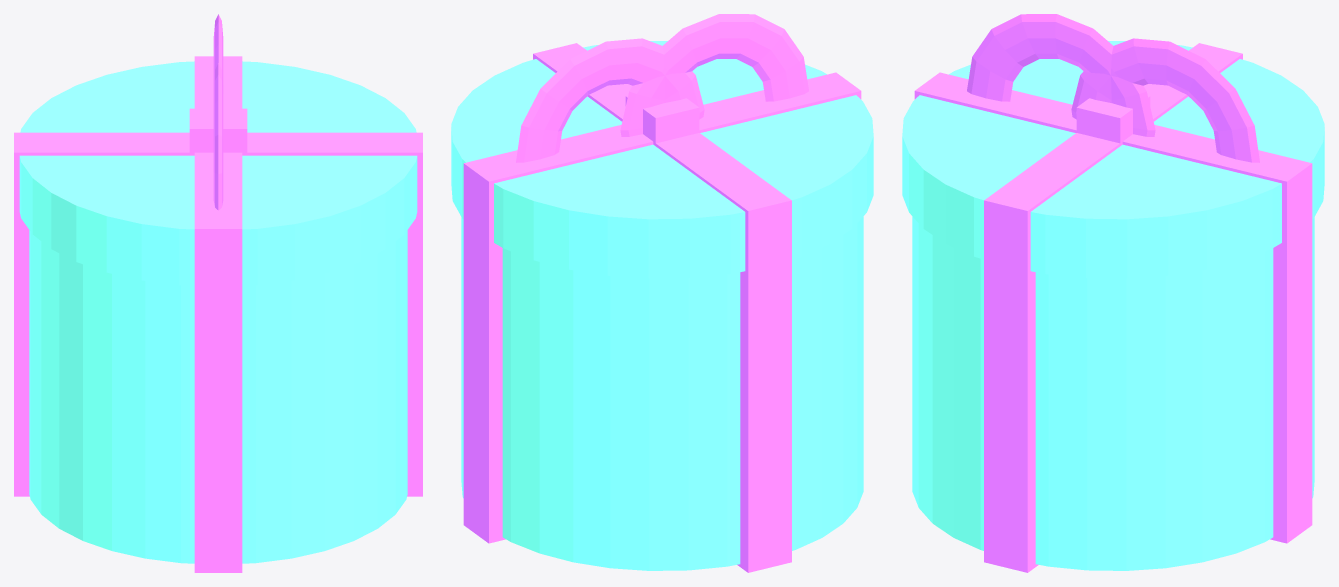
The model's file is Tmpl_Round_Root_203.glb.
3 views of the same model, side by side, from view 1: azimuth 30°, elevation 25°; view 2: azimuth 150°, elevation 25°; view 3: azimuth 270°, elevation 25° (orthographic). The views are drawn at different scales.
Visible parts, largest first — view 1: Tmpl_Round_Base.201, Tmpl_Round_Lid.201, Tmpl_Round_Ribbon_X.201, Tmpl_Round_Ribbon_Y.201, Tmpl_Round_BowKnot.201, Tmpl_Round_BowR.201, Tmpl_Round_BowL.201; view 2: Tmpl_Round_Base.201, Tmpl_Round_Lid.201, Tmpl_Round_Ribbon_Y.201, Tmpl_Round_Ribbon_X.201, Tmpl_Round_BowR.201, Tmpl_Round_BowL.201, Tmpl_Round_BowKnot.201; view 3: Tmpl_Round_Base.201, Tmpl_Round_Lid.201, Tmpl_Round_Ribbon_Y.201, Tmpl_Round_Ribbon_X.201, Tmpl_Round_BowR.201, Tmpl_Round_BowL.201, Tmpl_Round_BowKnot.201.
Part boxes in pixels (bbox=[...]): Tmpl_Round_Base.201: bbox=[29, 230, 407, 563]; Tmpl_Round_Lid.201: bbox=[19, 61, 417, 285]; Tmpl_Round_Ribbon_X.201: bbox=[194, 56, 242, 572]; Tmpl_Round_Ribbon_Y.201: bbox=[14, 132, 422, 496]; Tmpl_Round_BowKnot.201: bbox=[189, 108, 247, 155]; Tmpl_Round_BowR.201: bbox=[213, 63, 223, 210]; Tmpl_Round_BowL.201: bbox=[213, 14, 223, 84]; Tmpl_Round_Base.201: bbox=[461, 216, 863, 570]; Tmpl_Round_Lid.201: bbox=[451, 41, 873, 278]; Tmpl_Round_Ribbon_Y.201: bbox=[533, 43, 791, 572]; Tmpl_Round_Ribbon_X.201: bbox=[463, 72, 861, 543]; Tmpl_Round_BowR.201: bbox=[620, 14, 808, 136]; Tmpl_Round_BowL.201: bbox=[516, 38, 704, 162]; Tmpl_Round_BowKnot.201: bbox=[625, 95, 699, 143]; Tmpl_Round_Base.201: bbox=[912, 216, 1314, 570]; Tmpl_Round_Lid.201: bbox=[902, 41, 1324, 278]; Tmpl_Round_Ribbon_Y.201: bbox=[984, 43, 1242, 572]; Tmpl_Round_Ribbon_X.201: bbox=[914, 72, 1312, 543]; Tmpl_Round_BowR.201: bbox=[967, 14, 1155, 136]; Tmpl_Round_BowL.201: bbox=[1071, 38, 1259, 162]; Tmpl_Round_BowKnot.201: bbox=[1076, 95, 1150, 144].
Bounding box in the file's own units: 0.7059 × 0.8503 × 0.7059.
